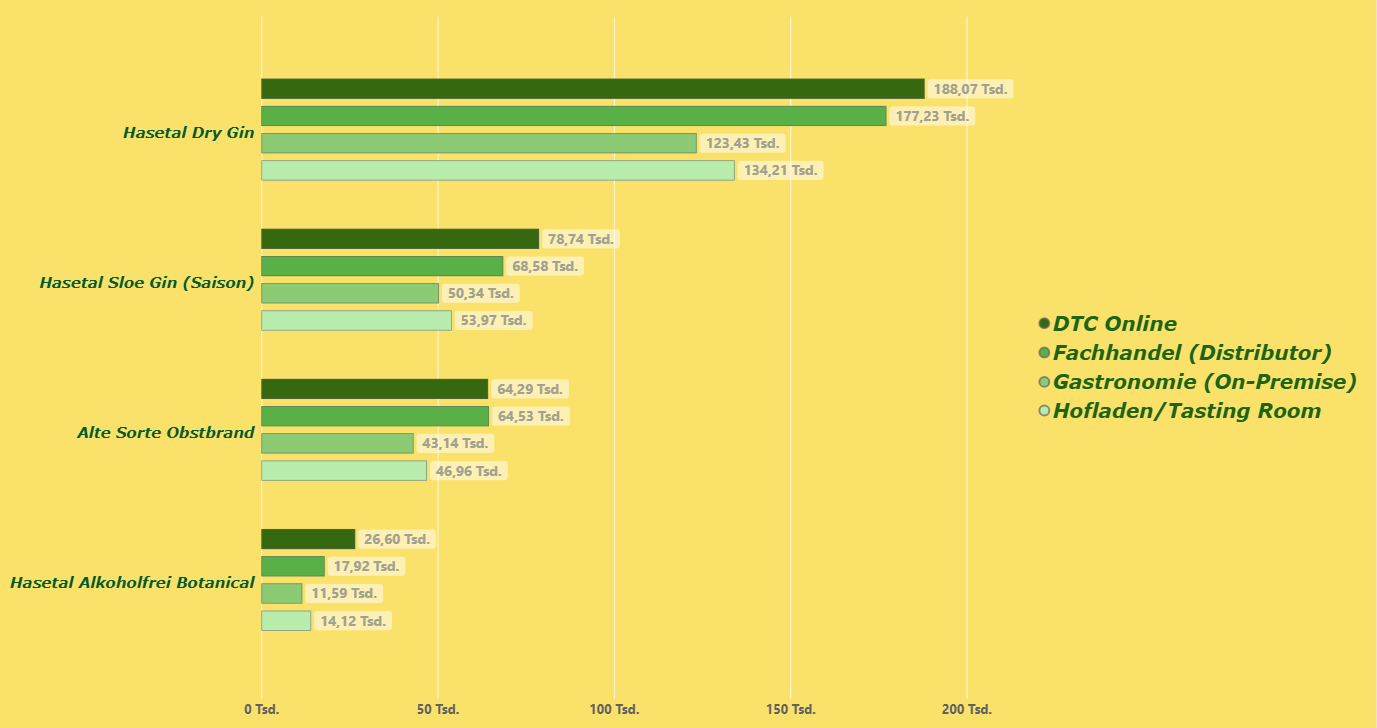

What the dashboard file says about the page in this screenshot:
{"tool":"powerbi","page":{"name":"Seite 1","canvas":[1920,1080],"ordinal":0},"visuals":[{"type":"clusteredBarChart","title":"Sale Trands from 01.2024 to 12.2025","fields":{"Category":["sum_product_pre_chanel (2).Product"],"Y":["Sum(sum_product_pre_chanel (2).Revenue EUR)"],"Series":["sum_product_pre_chanel (2).Channel"]},"box":[40.9,20.4,1836.8,1037.3],"z":0}]}

Visuals, with their boxes on the page's 1920x1080 design canvas (x1, y1, x2, y2). These are canvas units, not pixel positions in the 1377x728 screenshot, which may show the page scaled, cropped or inside an application window:
"Sale Trands from 01.2024 to 12.2025" clusteredBarChart: box=[41, 20, 1878, 1058]
